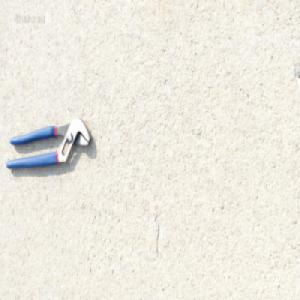Pliers: (5, 116, 91, 170)
